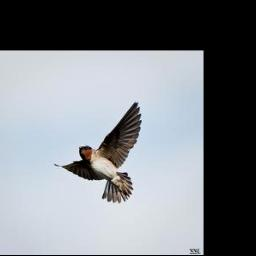Swallow: (53, 99, 143, 206)
